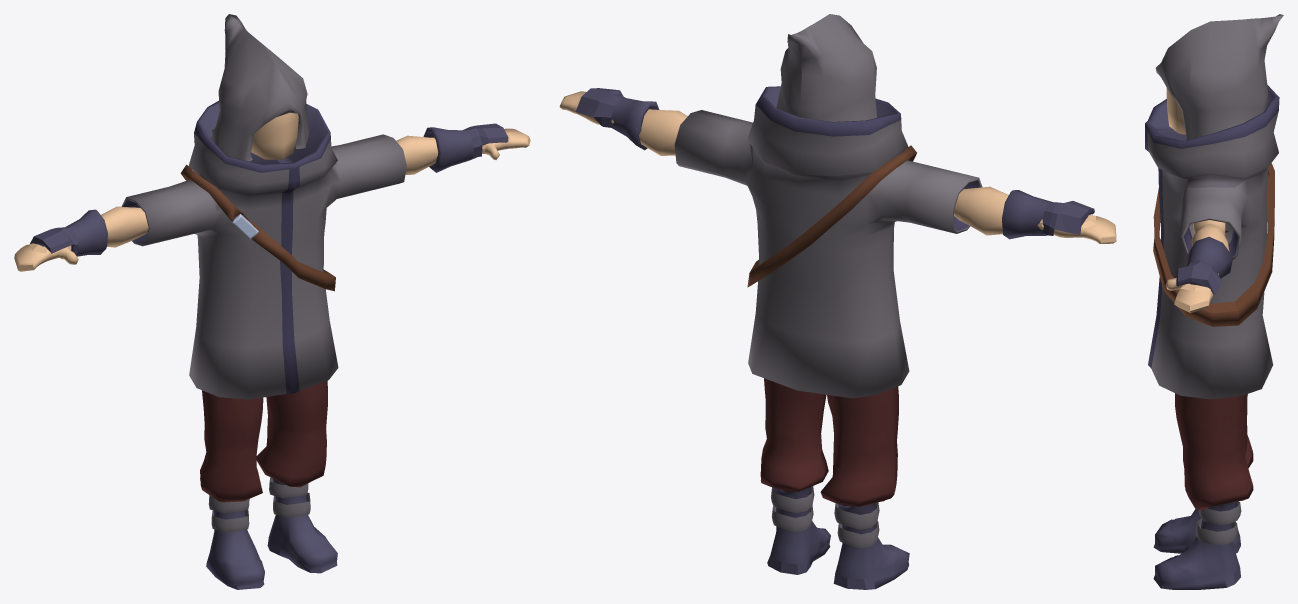
File: Doryin Merged2.fbx
The picture shows the model from 3 angles, left to right: view 1: azimuth 30°, elevation 25°; view 2: azimuth 150°, elevation 25°; view 3: azimuth 270°, elevation 25°; orthographic projection. The views are drawn at different scales.
Visible parts, largest first — view 1: Coat, Pants, Hood, Boots, Gloves, Arms, Bootstrap, Hands, Head; view 2: Coat, Pants, Hood, Boots, Gloves, Arms, Bootstrap, Hands; view 3: Coat, Hood, Pants, Boots, Gloves, Bootstrap, Hands, Arms, Head.
Boxes of the visible parts, x1,y1,x2,y2 form: Coat: (121,101,406,399); Pants: (200,380,327,502); Hood: (210,14,309,161); Boots: (206,478,337,589); Gloves: (30,123,508,256); Arms: (101,135,438,247); Bootstrap: (208,477,310,532); Hands: (14,128,530,271); Head: (251,112,298,159); Coat: (674,86,982,398); Pants: (760,378,898,506); Hood: (776,14,876,121); Boots: (767,487,909,589); Gloves: (575,88,1094,239); Arms: (639,109,1008,235); Bootstrap: (771,486,879,548); Hands: (559,91,1116,243); Coat: (1145,85,1279,399); Hood: (1155,14,1283,140); Pants: (1175,230,1253,510); Boots: (1153,501,1240,589); Gloves: (1176,236,1232,294); Bootstrap: (1195,501,1241,545); Hands: (1165,273,1218,313); Arms: (1191,220,1229,251); Head: (1166,88,1185,134).
Bounding box in the file's own units: 698 × 679 × 156.
